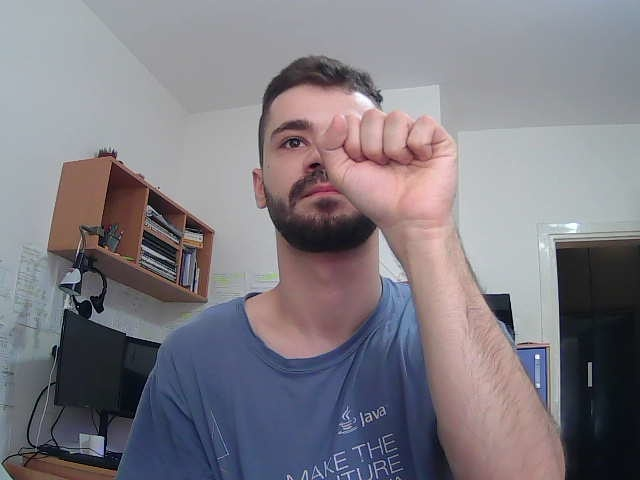a: (309, 99, 497, 274)
